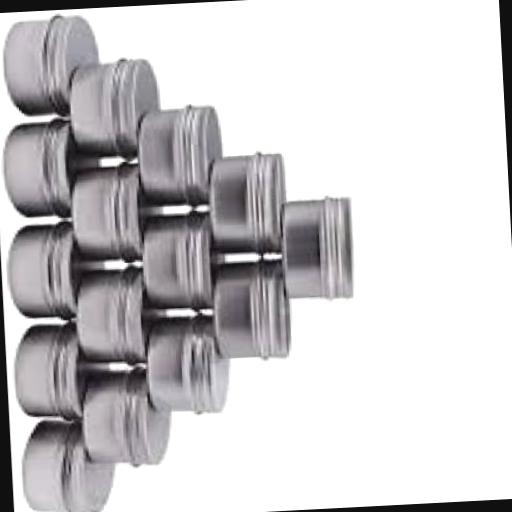metal: (6, 224, 106, 325), (6, 16, 104, 118), (72, 265, 168, 368), (3, 122, 101, 220), (80, 368, 173, 471), (134, 106, 224, 212), (137, 214, 230, 316), (208, 258, 294, 363), (144, 316, 232, 418), (74, 62, 162, 160), (209, 155, 291, 260), (281, 198, 360, 305), (24, 421, 116, 512), (75, 166, 151, 266), (16, 326, 86, 424)
